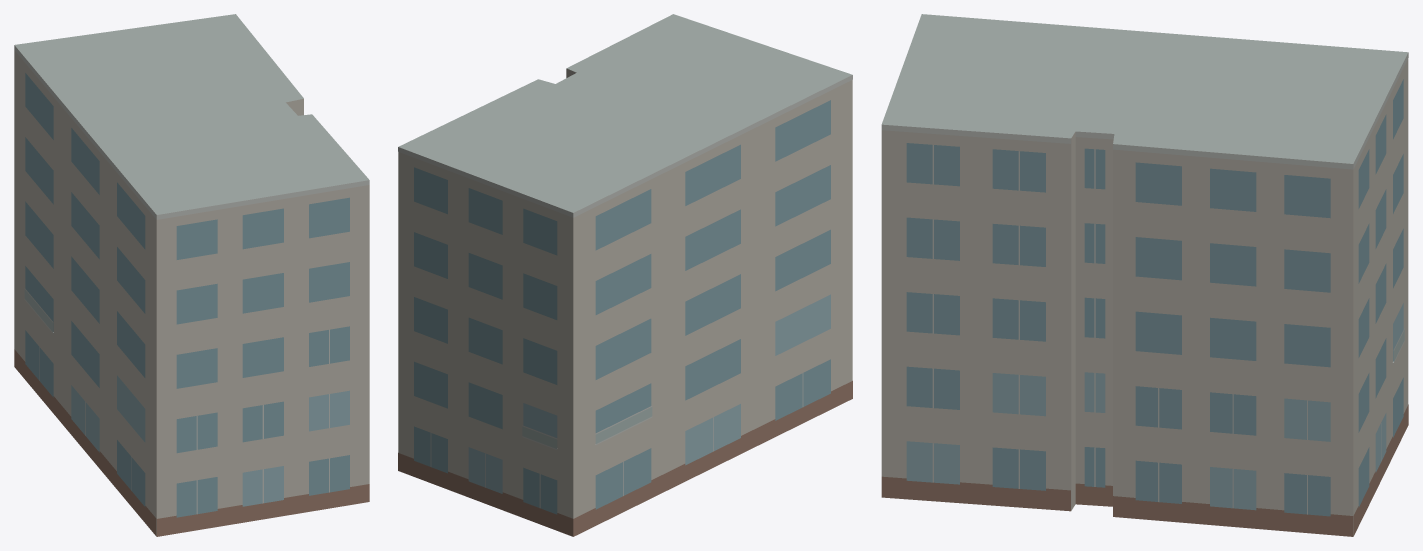
File: survey-upis-33036962.glb
3 views of the same model, side by side, from view 1: azimuth 30°, elevation 25°; view 2: azimuth 150°, elevation 25°; view 3: azimuth 270°, elevation 25° (orthographic). The views are drawn at different scales.
Visible parts, largest first — view 1: survey-upis-33036962.tmp; view 2: survey-upis-33036962.tmp; view 3: survey-upis-33036962.tmp.
Boxes of the visible parts, x1=… form: survey-upis-33036962.tmp: x1=14, y1=14, x2=369, y2=536; survey-upis-33036962.tmp: x1=398, y1=14, x2=852, y2=536; survey-upis-33036962.tmp: x1=881, y1=14, x2=1408, y2=536.
Bounding box in the file's own units: 14.08 × 16.3 × 20.89.
